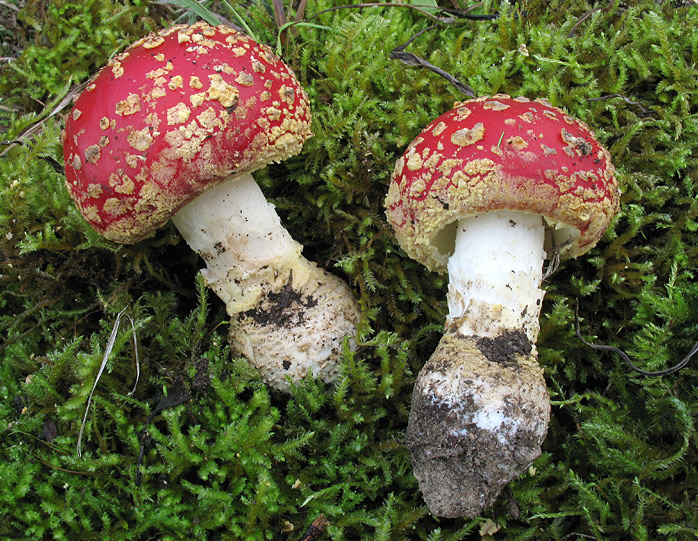apple: (58, 21, 308, 242)
